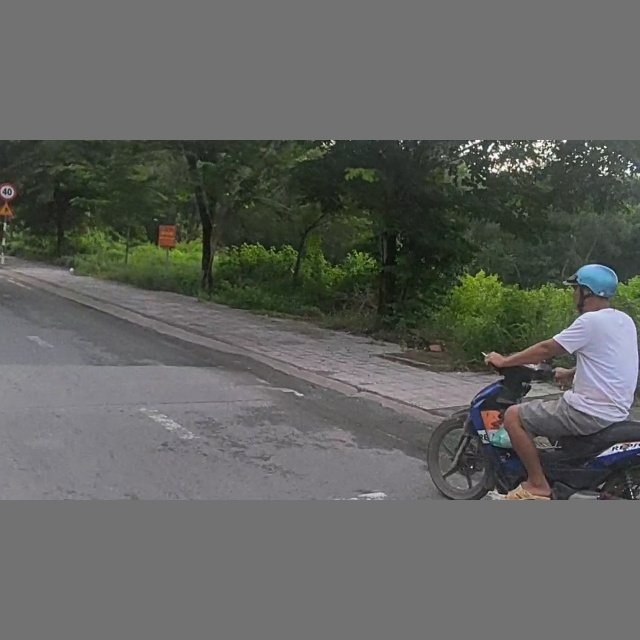P.127*40: (1, 184, 15, 199)
W.224: (1, 201, 15, 217)
